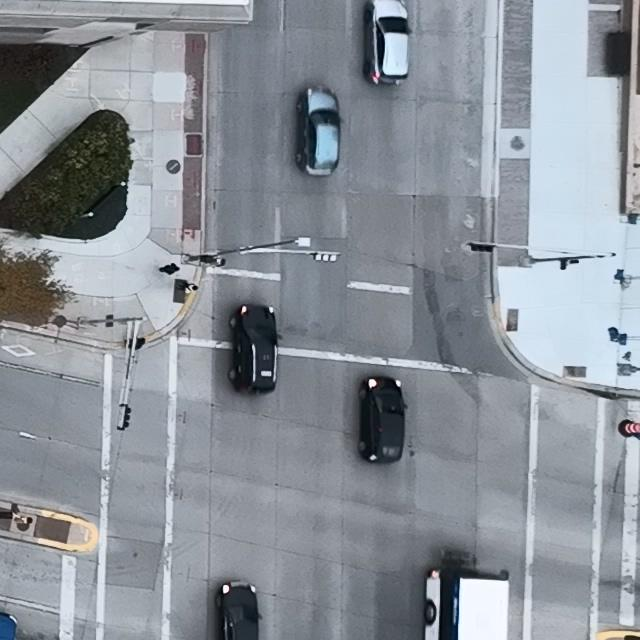car: (423, 567, 508, 640), (229, 305, 282, 393), (295, 85, 344, 176), (358, 377, 408, 464), (363, 0, 410, 87), (215, 580, 263, 640)
